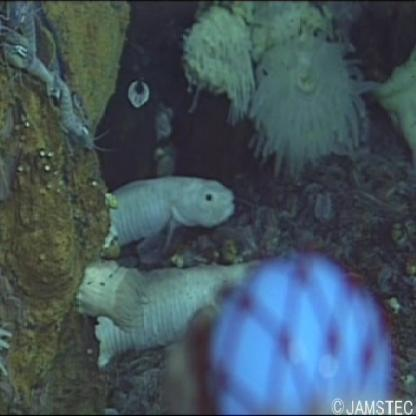Bio: (70, 163, 262, 372), (1, 1, 107, 156)
